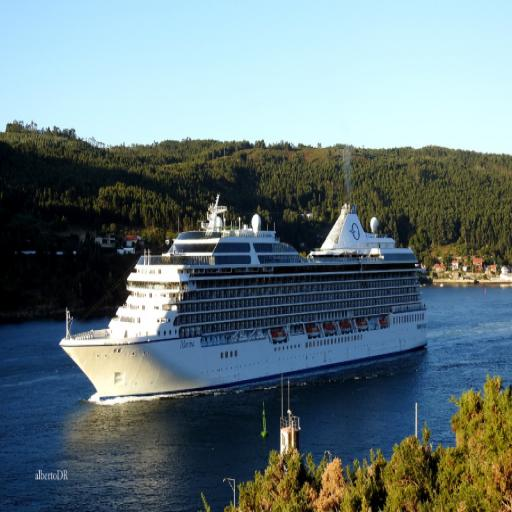cruises: (60, 191, 431, 405)
